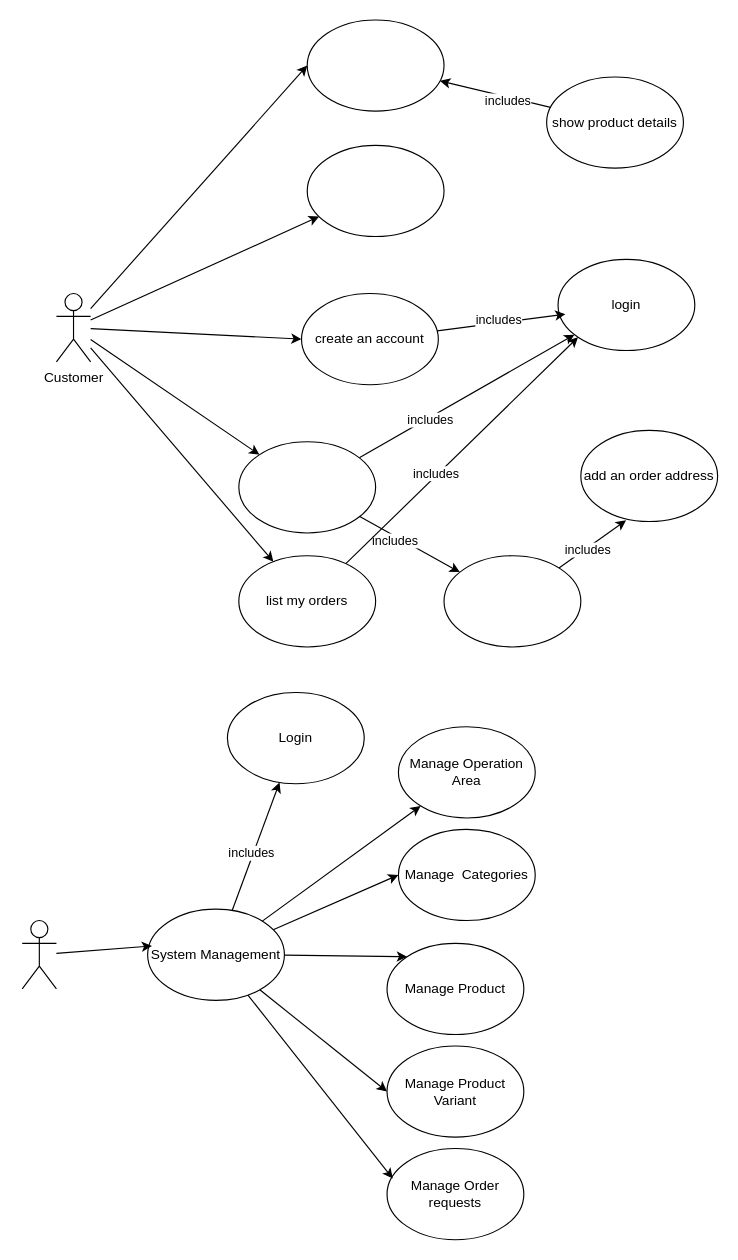
This 738x1260 diagram has some shape labels left out. Here are the shapes that lost their labels. From the top down, the centre of each, then its label:
At pixel 375 65: "list products".
At pixel 375 190: "add product to cart".
At pixel 307 487: "checkout products".
At pixel 512 601: "create an order".
At pixel 38 954: "Admin".
